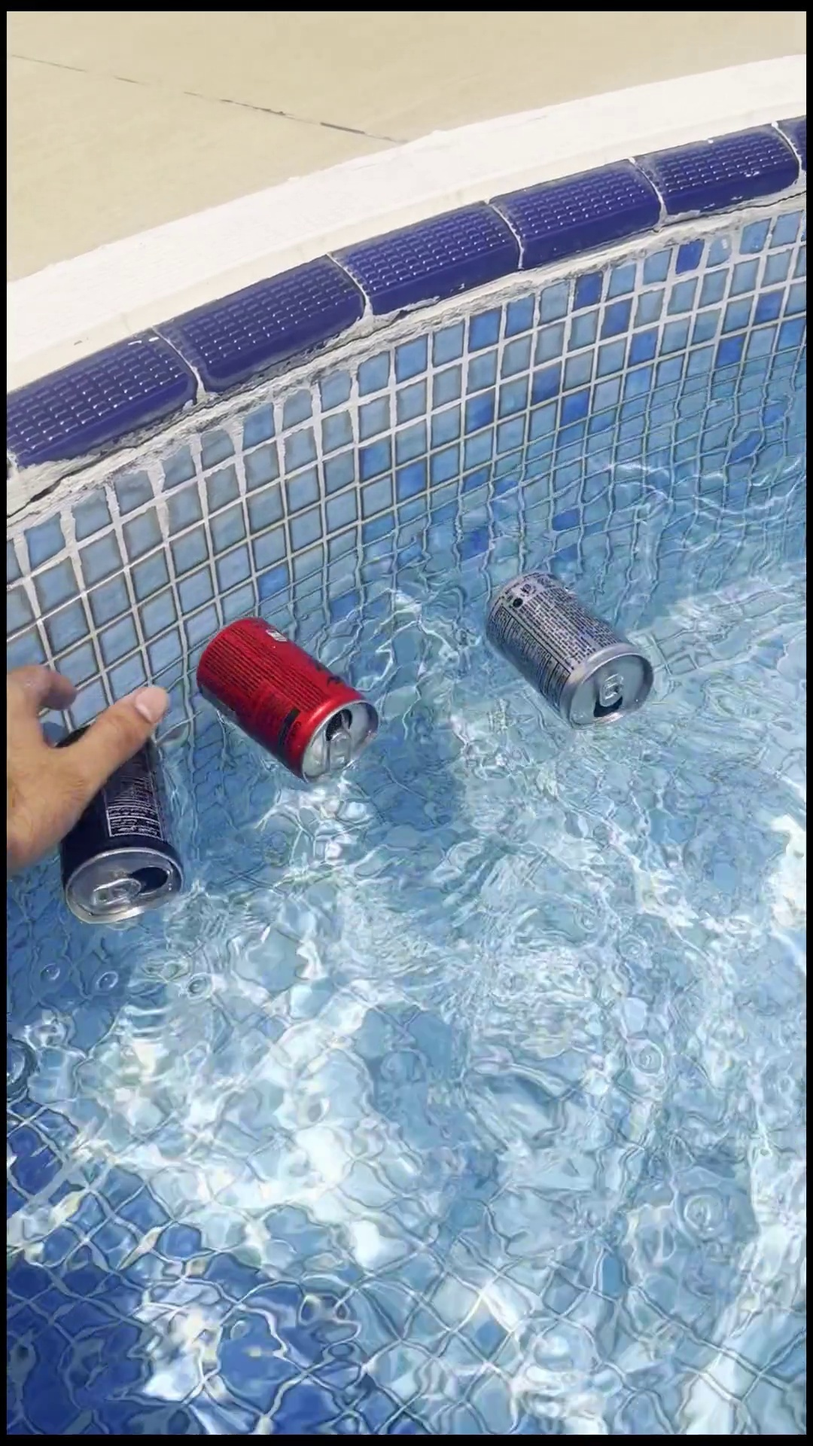debris: (472, 517, 654, 789), (183, 562, 382, 806), (48, 689, 184, 940)
